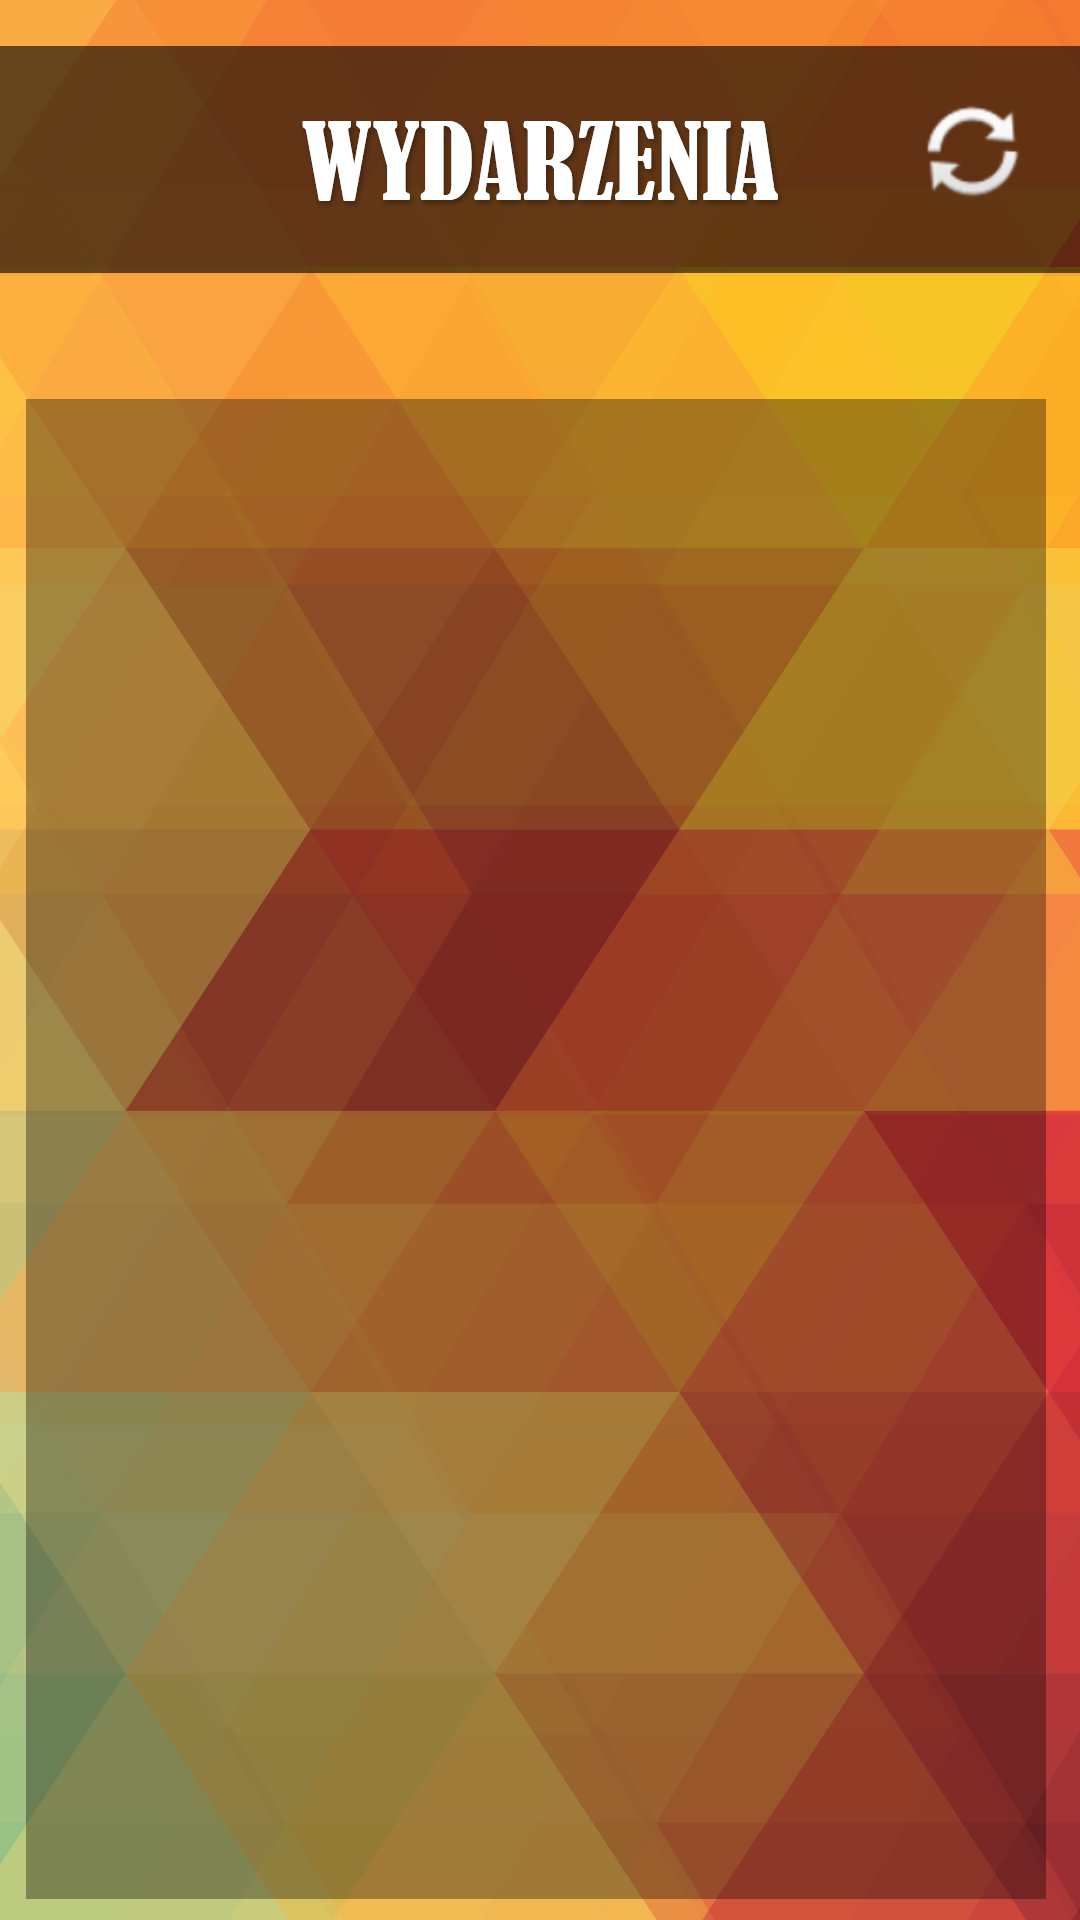

Point at icon controls on the screen. Image size 1080 × 1920, points as point (x, y).
popup sync: point (973, 151)
